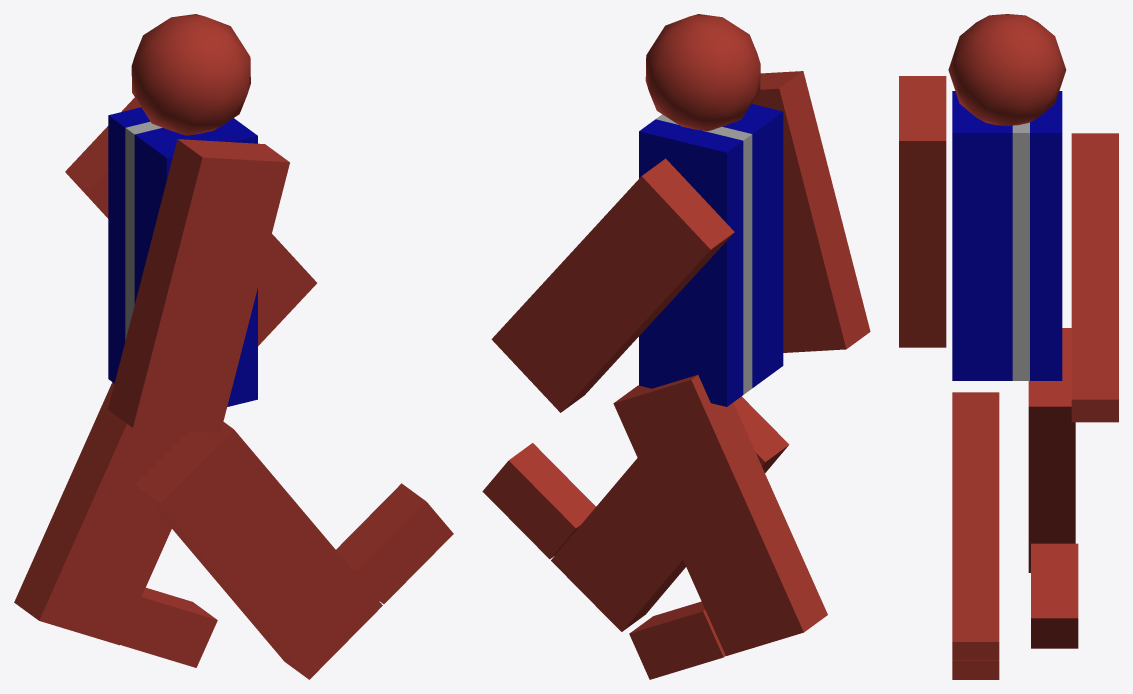
Rendered from player_000023.obj.
3 views of the same model, side by side, from view 1: azimuth 30°, elevation 25°; view 2: azimuth 150°, elevation 25°; view 3: azimuth 270°, elevation 25° (orthographic). The views are drawn at different scales.
Visible parts, largest first — view 1: Cube.005, Cube.001, Cube.002, Cube, Icosphere, Cube.003, Cube.006, Cube.004; view 2: Cube.002, Cube, Cube.006, Cube.005, Cube.001, Icosphere, Cube.003, Cube.004; view 3: Cube, Cube.006, Cube.005, Cube.001, Icosphere, Cube.002, Cube.004, Cube.003.
Part boxes in pixels (x1,y1,x2,y2): Cube.005: (108,139,289,432); Cube.001: (135,422,382,679); Cube.002: (14,382,188,645); Cube: (108,107,257,406); Icosphere: (131,14,250,135); Cube.003: (336,483,453,603); Cube.006: (65,97,316,345); Cube.004: (120,587,217,667); Cube.002: (613,375,827,655); Cube: (639,104,783,406); Cube.006: (491,158,734,412); Cube.005: (751,71,870,352); Cube.001: (551,396,789,631); Icosphere: (645,14,760,131); Cube.003: (482,443,595,559); Cube.004: (629,601,725,679); Cube: (952,91,1062,380); Cube.006: (1071,133,1118,422); Cube.005: (899,76,946,347); Cube.001: (952,392,999,679); Icosphere: (948,14,1066,125); Cube.002: (1028,328,1075,572); Cube.004: (1031,543,1078,648); Cube.003: (952,593,999,660).
Size of the model in its own units: 1.69 by 2.86 by 0.9137.
